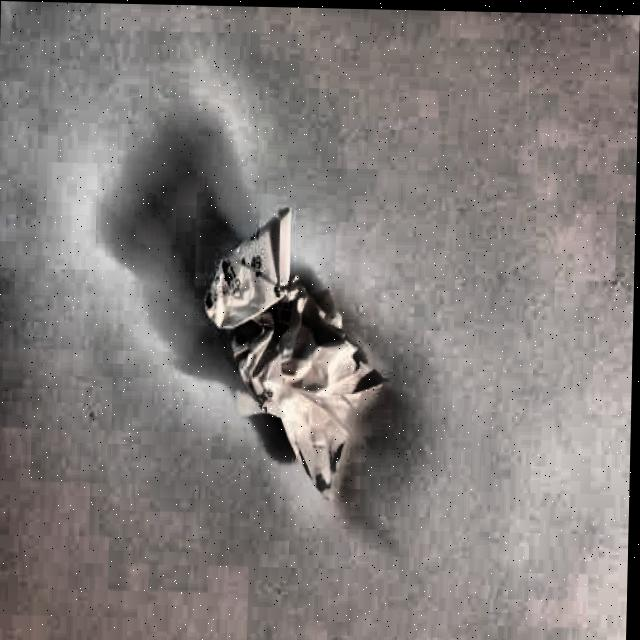paper: (199, 202, 390, 500)
